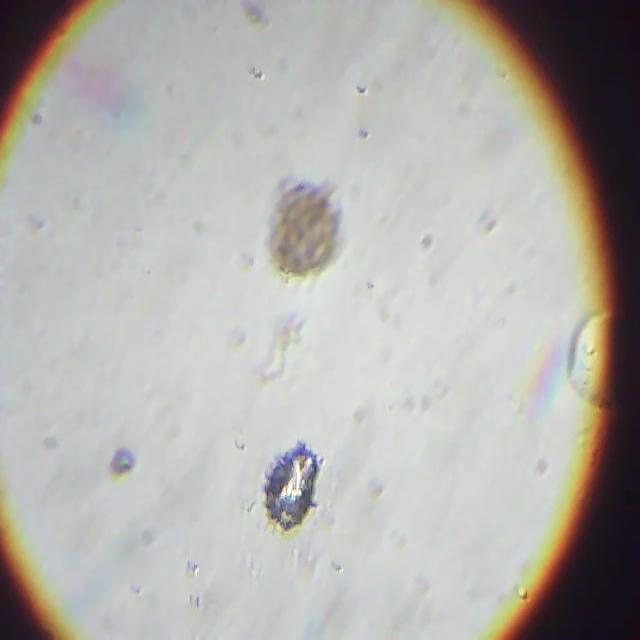alexandrium: (261, 176, 348, 282)
alexandrium minutum: (257, 436, 329, 534)
